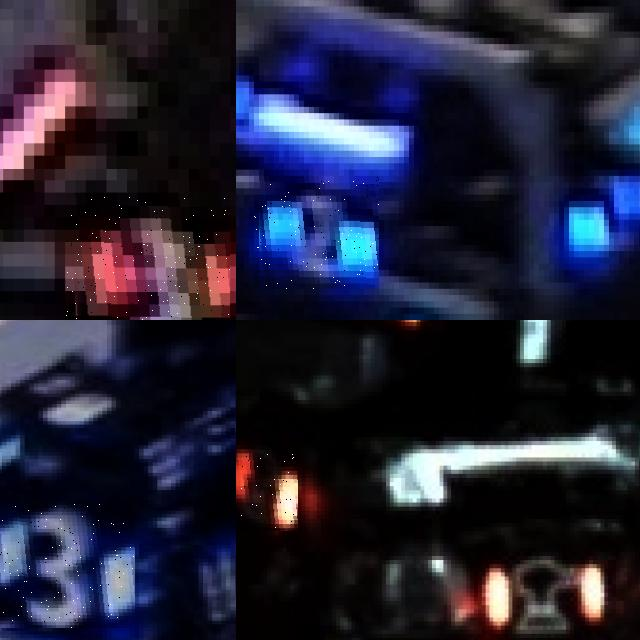B2: (254, 176, 379, 289)
B3: (0, 500, 134, 627)
R3: (65, 192, 230, 320)
Rs: (486, 560, 608, 634), (236, 445, 298, 531)
